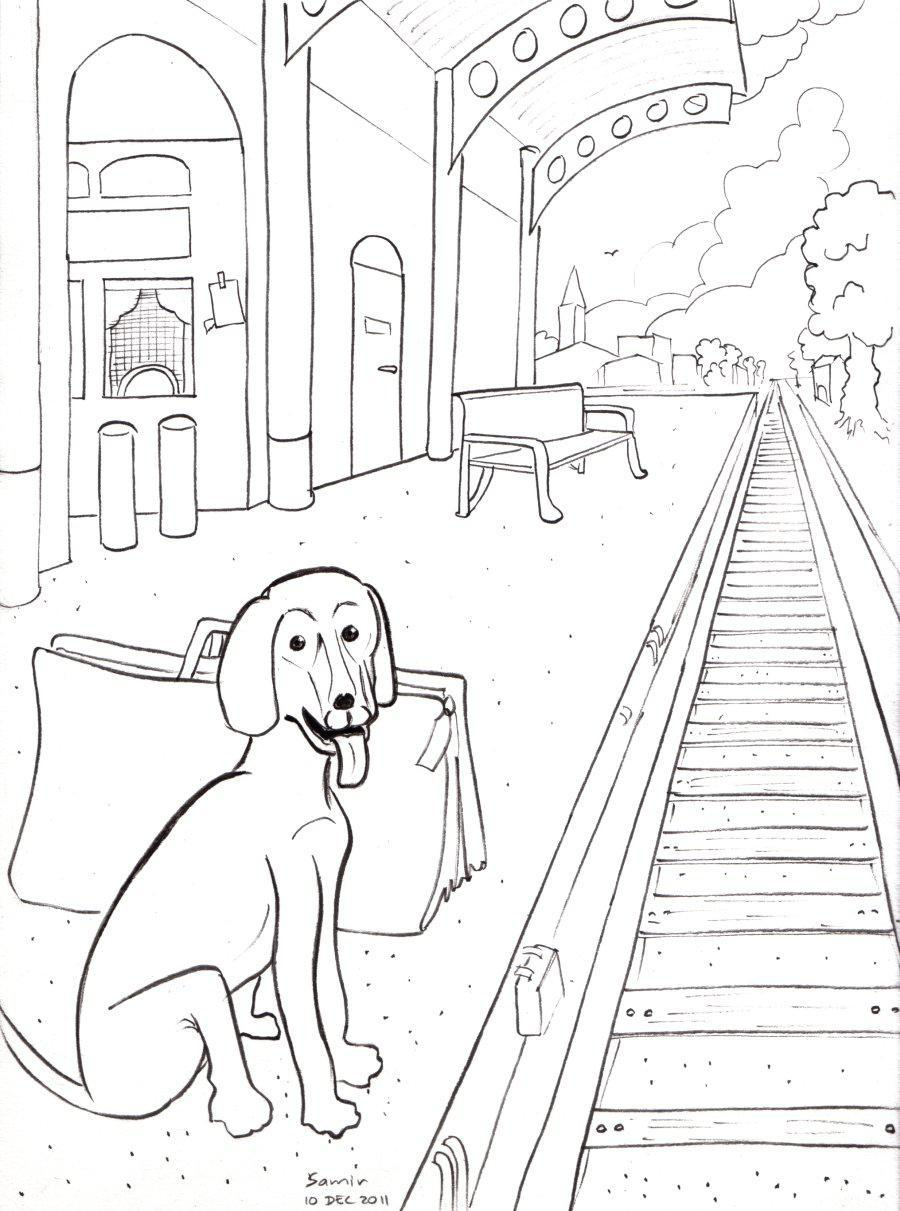chair: (414, 347, 666, 517)
dog: (26, 552, 400, 1144)
